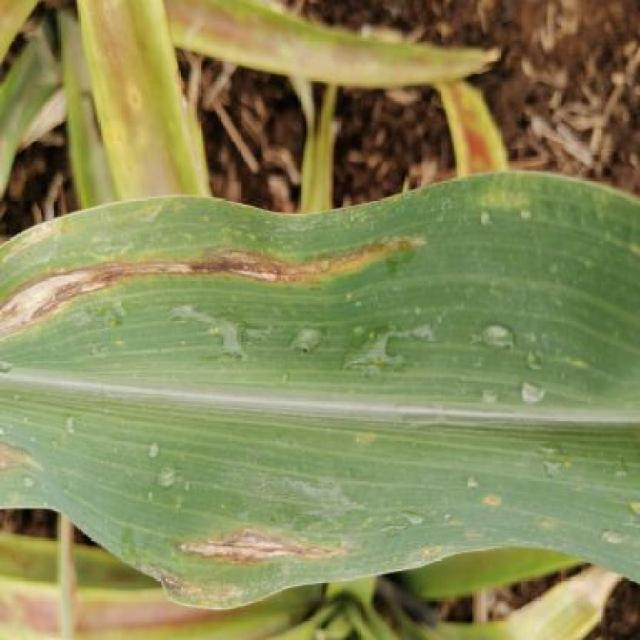Corn_Leaf_Blight: (0, 177, 640, 592)
